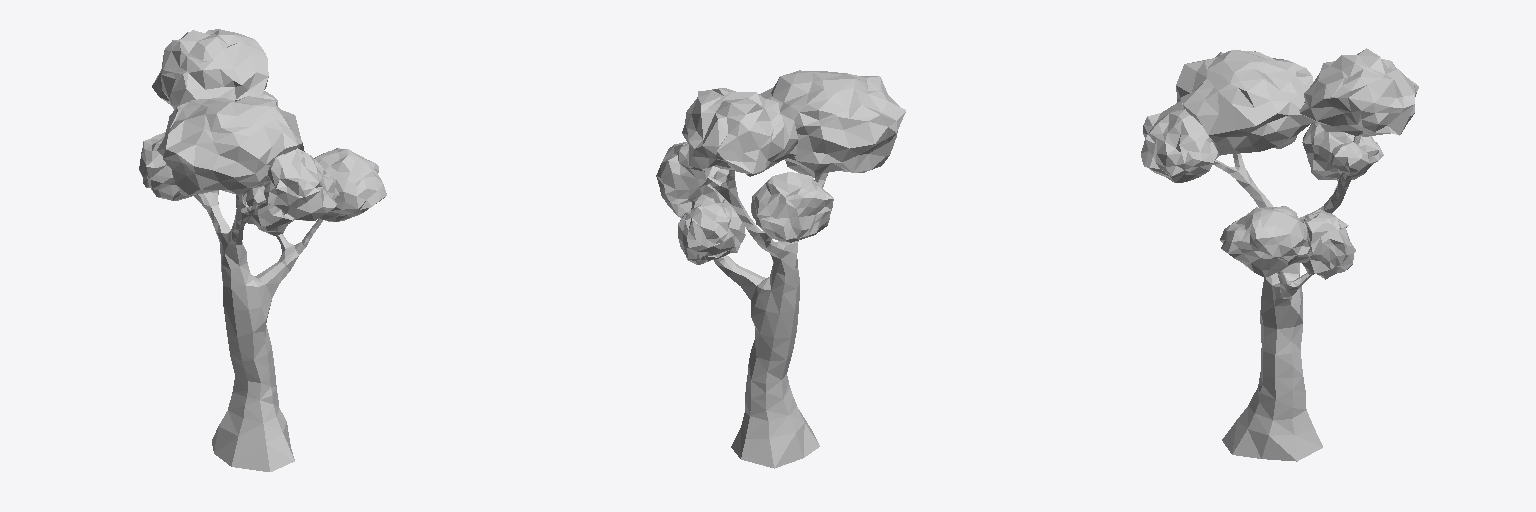
The model's file is common_tree_3_autumn.obj.
3 views of the same model, side by side, from view 1: azimuth 30°, elevation 25°; view 2: azimuth 150°, elevation 25°; view 3: azimuth 270°, elevation 25° (orthographic).
Visible parts, largest first — view 1: common_tree_3_leaves_dark.001, common_tree_3_trunk.001, common_tree_3_leaves.001; view 2: common_tree_3_leaves_dark.001, common_tree_3_trunk.001, common_tree_3_leaves.001; view 3: common_tree_3_leaves_dark.001, common_tree_3_trunk.001, common_tree_3_leaves.001.
Boxes of the visible parts, box(x1,y1,x2,y2) form: common_tree_3_leaves_dark.001: box(139, 29, 386, 221); common_tree_3_trunk.001: box(194, 190, 322, 471); common_tree_3_leaves.001: box(242, 91, 339, 235); common_tree_3_leaves_dark.001: box(656, 70, 905, 242); common_tree_3_trunk.001: box(706, 170, 827, 468); common_tree_3_leaves.001: box(677, 143, 745, 264); common_tree_3_leaves_dark.001: box(1176, 48, 1418, 277); common_tree_3_trunk.001: box(1213, 135, 1360, 461); common_tree_3_leaves.001: box(1141, 100, 1368, 279).
Bounding box in the file's own units: 3.65 × 6.04 × 3.97.